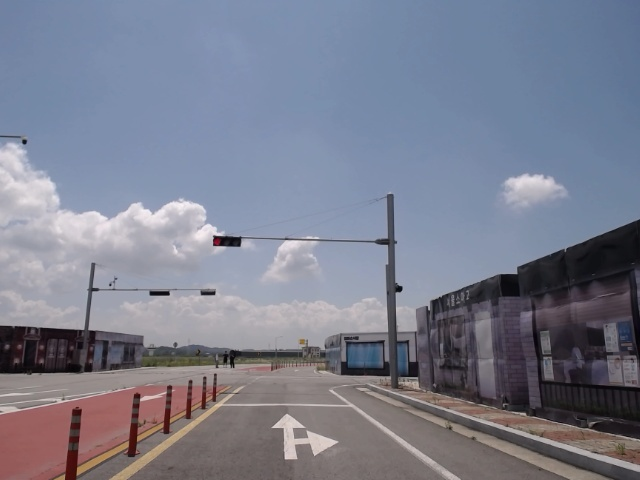red_3: (211, 235, 243, 247)
